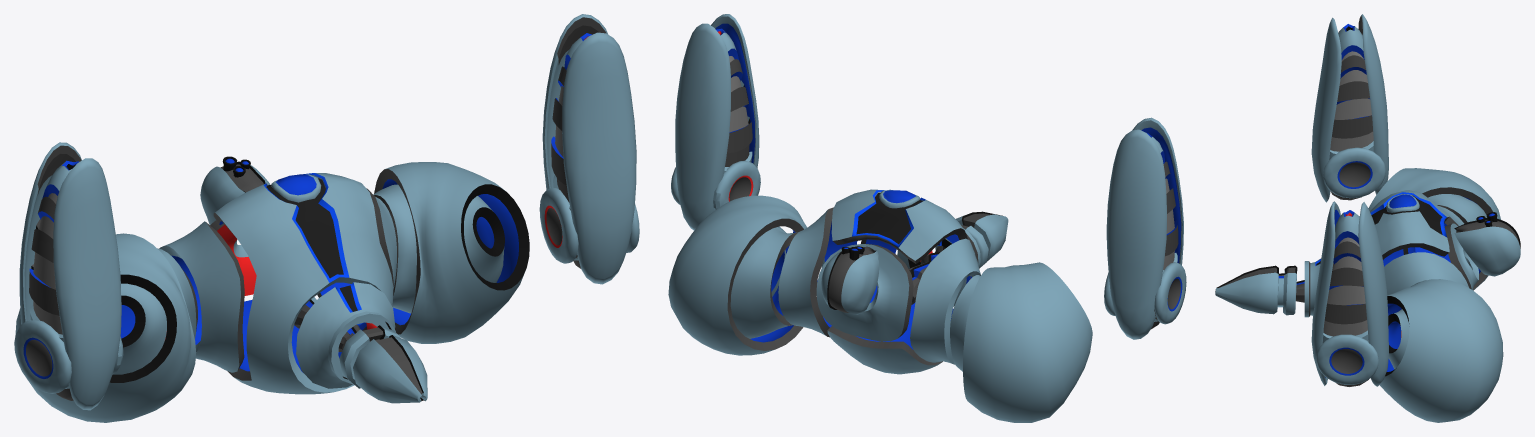
File: TankBot_modelF.fbx
The picture shows the model from 3 angles, left to right: view 1: azimuth 30°, elevation 25°; view 2: azimuth 150°, elevation 25°; view 3: azimuth 270°, elevation 25°; orthographic projection. The views are drawn at different scales.
Visible parts, largest first — view 1: TankBot_modelF; view 2: TankBot_modelF; view 3: TankBot_modelF.
Part boxes in pixels (<box>): TankBot_modelF: <box>14,14,639,422</box>; TankBot_modelF: <box>668,14,1186,422</box>; TankBot_modelF: <box>1215,14,1520,422</box>.
Size of the model in its own units: 164 by 88.06 by 98.64.
